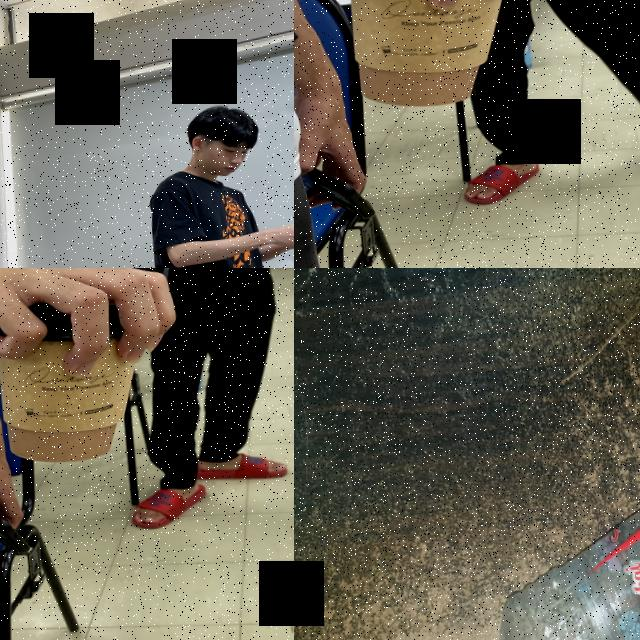bottle: (447, 433, 640, 640)
cup: (0, 276, 157, 469), (331, 0, 524, 118)
